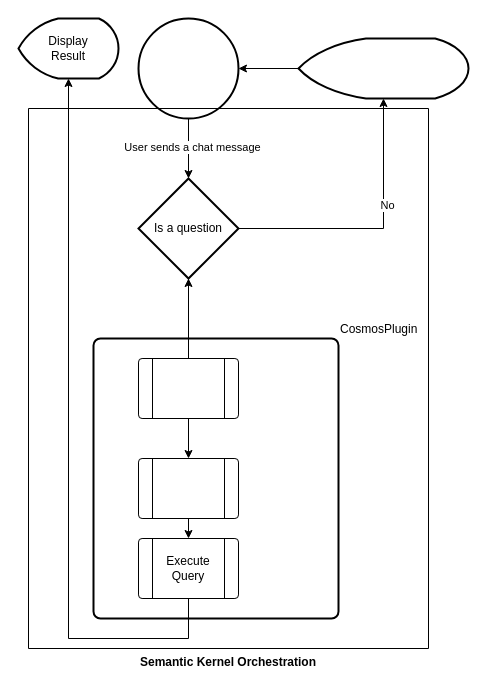
This 486x686 diagram has some shape labels left out. Here are the shapes that lost their labels. From the top down, the centre of each, then its label:
point 383,68: Prompt user to provide a question
point 188,388: Fetch Metadata
point 188,488: Generate Query
